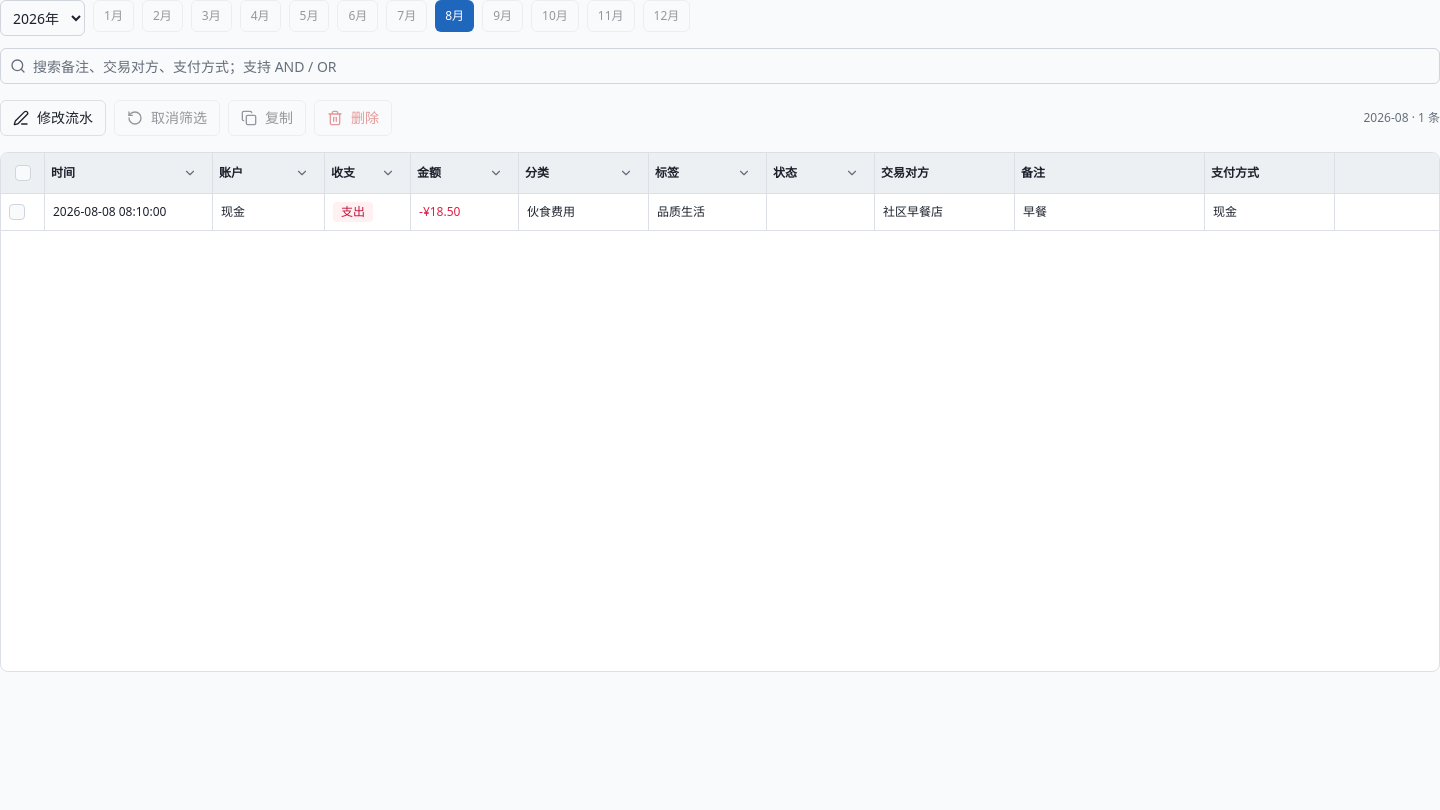
Test: TransactionsPage editing › blocks saving an illegal date in the desktop and mobile editing flow
Click the button "修改流水". click: click(53, 118)
box: [0,100,106,136]
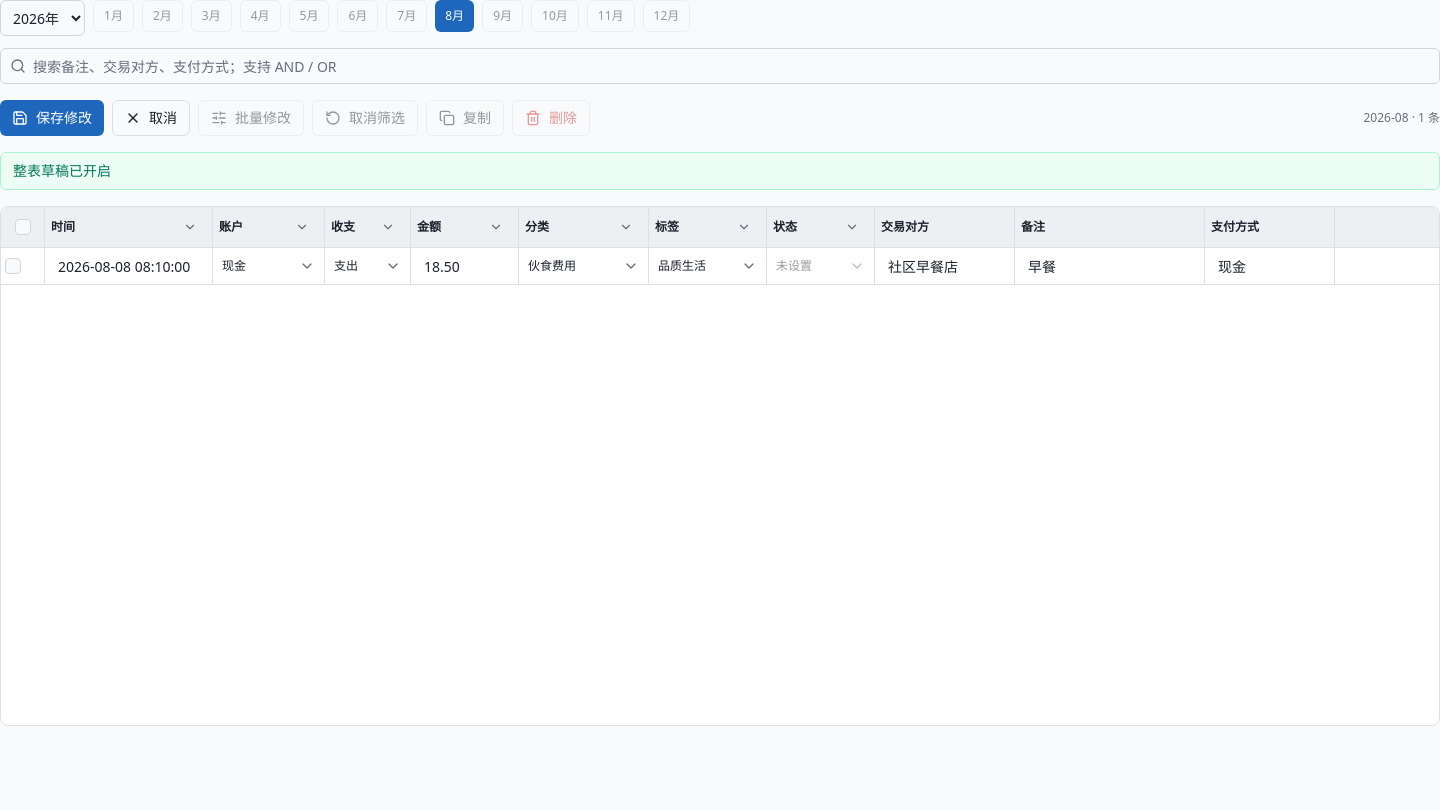
Replace the text in the field named "交易时间" with "2026-02-30 08:10:00". click: (128, 266)
box: [49,250,208,282]
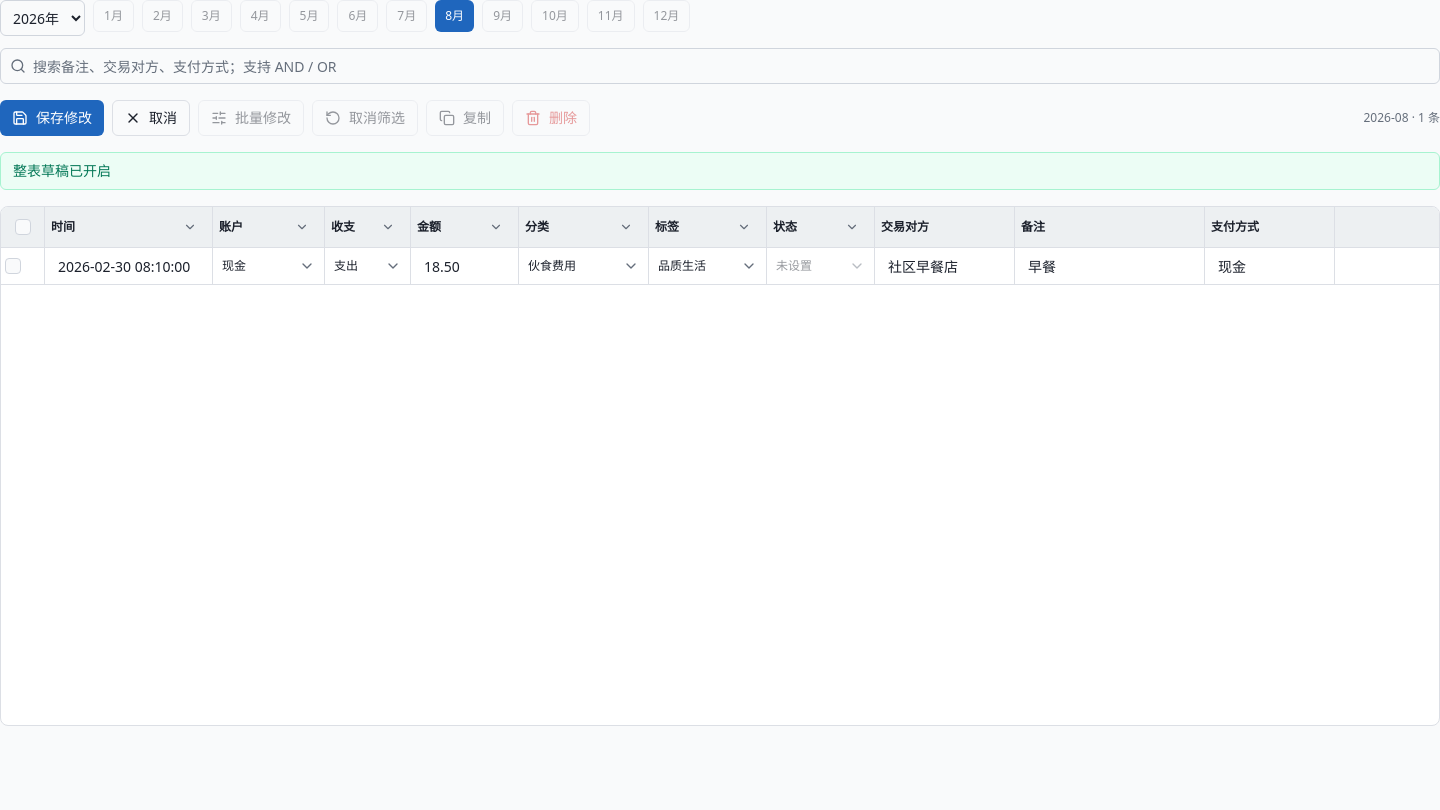
Expected: the field named "交易时间" is marked as invalid, [49,250,208,282]
Click the button "保存修改". click: click(52, 118)
box: [0,100,104,136]
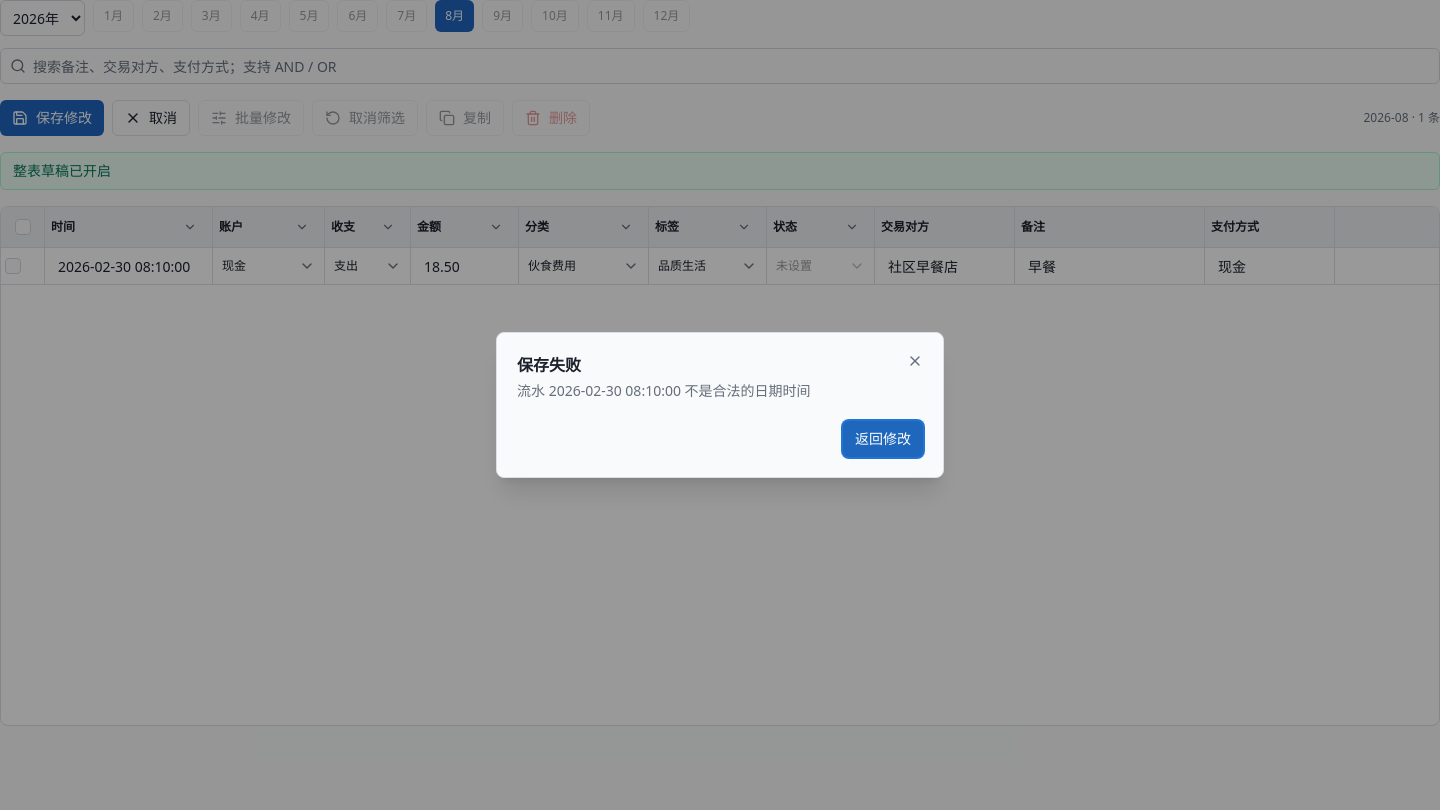
Expected: the dialog is shown, [496,332,944,478]
Expected: the text "流水 2026-02-30 08:10:00 不是合法的日期时间" is shown, [517,381,811,400]
Click the button "返回修改". click: click(883, 439)
box: [843,421,923,457]
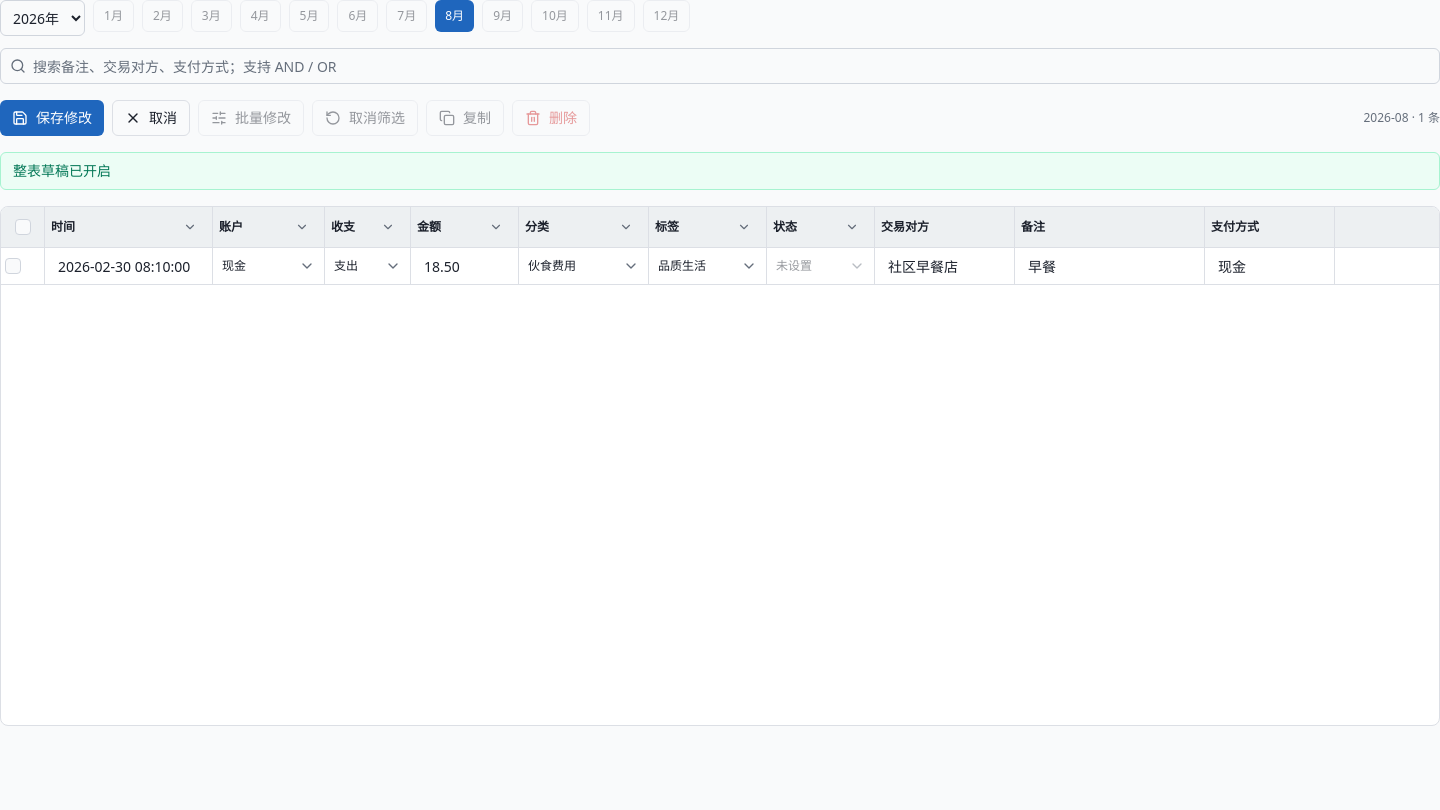
Expected: the button "保存修改" is shown, [0,100,104,136]
Expected: the dialog is gone
